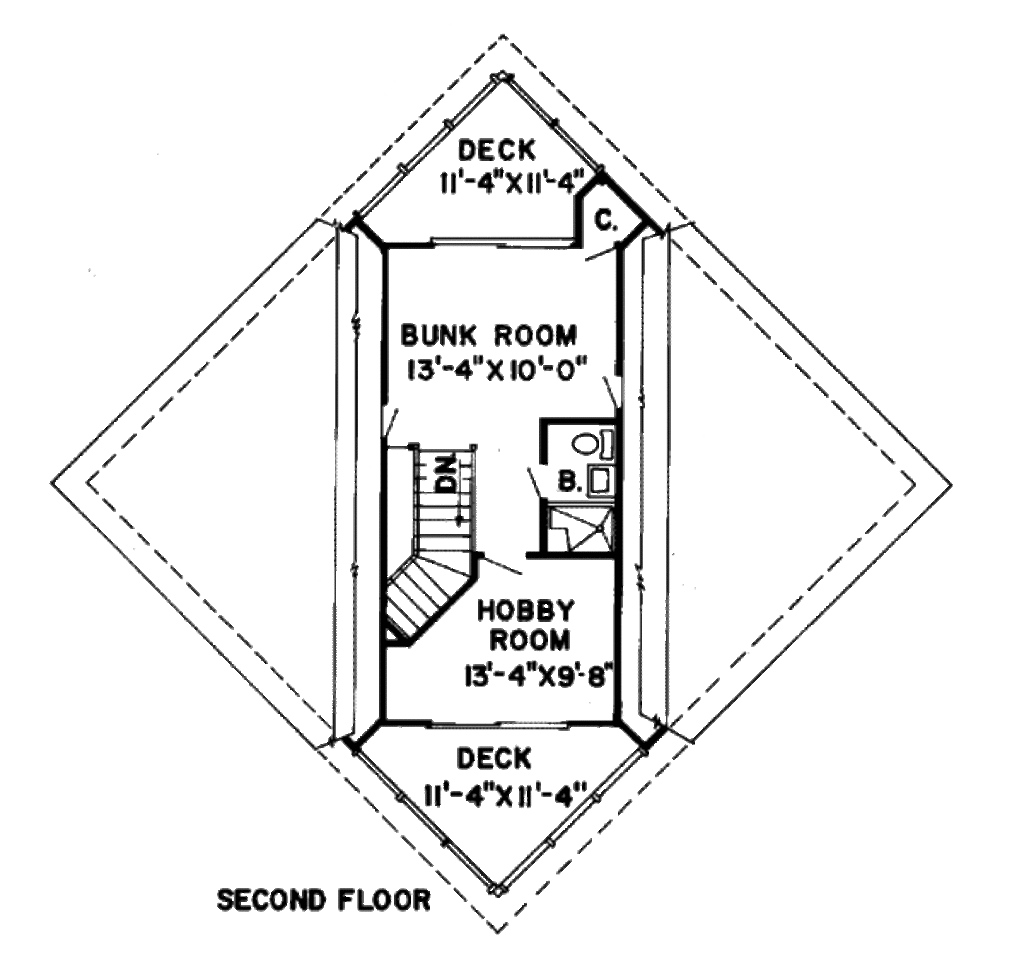door: (464, 543, 529, 598), (591, 372, 638, 414), (575, 232, 619, 270), (378, 394, 407, 440)
large_sink: (572, 423, 623, 461)
small_sink: (567, 464, 613, 502)
stairs: (363, 432, 484, 658)
window: (416, 713, 576, 741)
